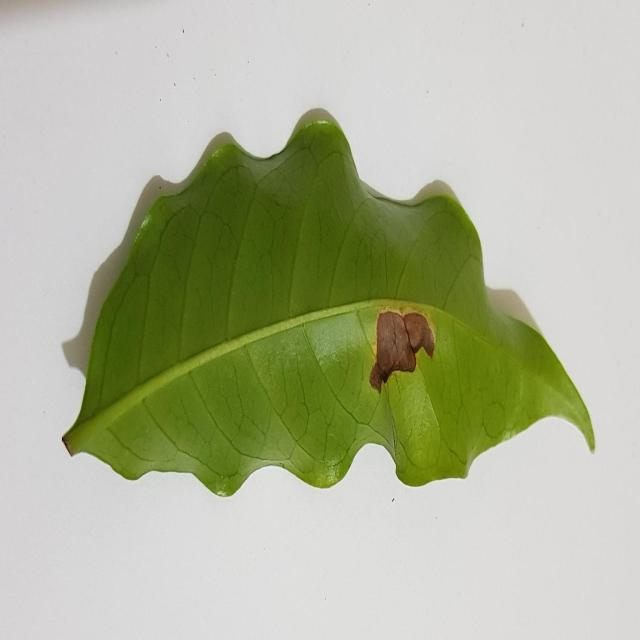Plaga-Minador: (63, 108, 597, 500)
